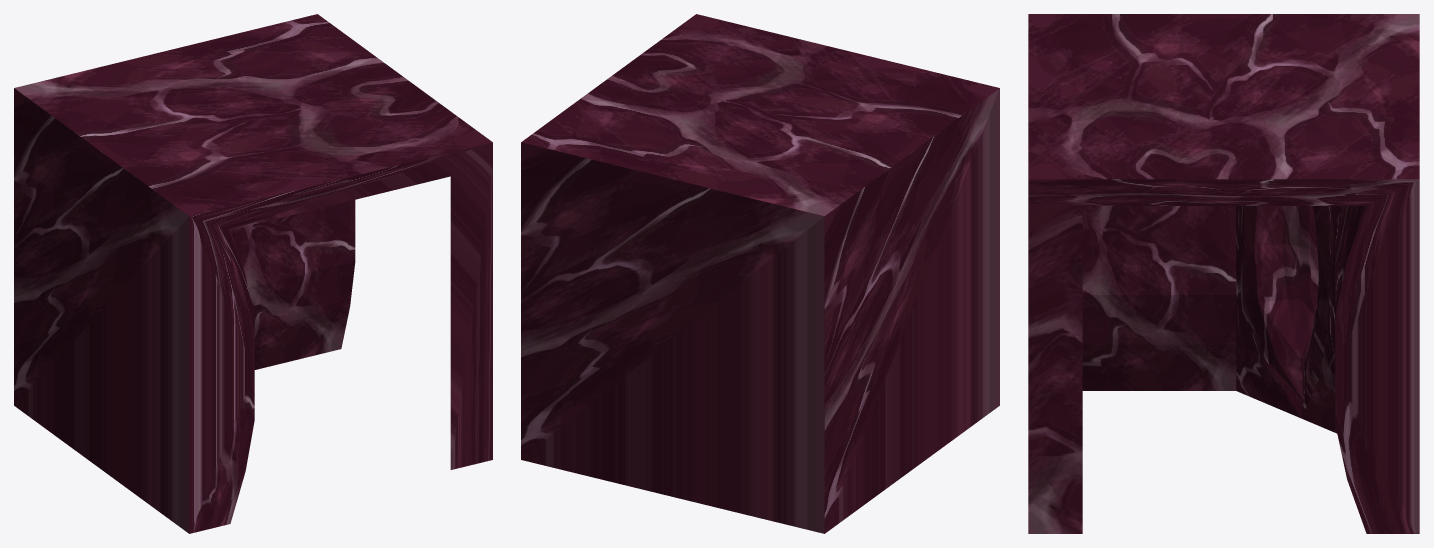
File: EspacioPornoScrollGiroBajoNI.gltf
The picture shows the model from 3 angles, left to right: view 1: azimuth 30°, elevation 25°; view 2: azimuth 150°, elevation 25°; view 3: azimuth 270°, elevation 25°; orthographic projection. The views are drawn at different scales.
Visible parts, largest first — view 1: Cubo.33; view 2: Cubo.33; view 3: Cubo.33.
Boxes of the visible parts, x1=… form: Cubo.33: x1=14, y1=14, x2=492, y2=533; Cubo.33: x1=521, y1=14, x2=999, y2=533; Cubo.33: x1=1028, y1=14, x2=1419, y2=533.
Bounding box in the file's own units: 2 × 2 × 2.
1 material, 1 textured.
